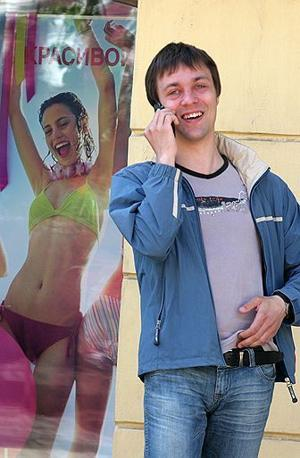person: (109, 41, 300, 457)
